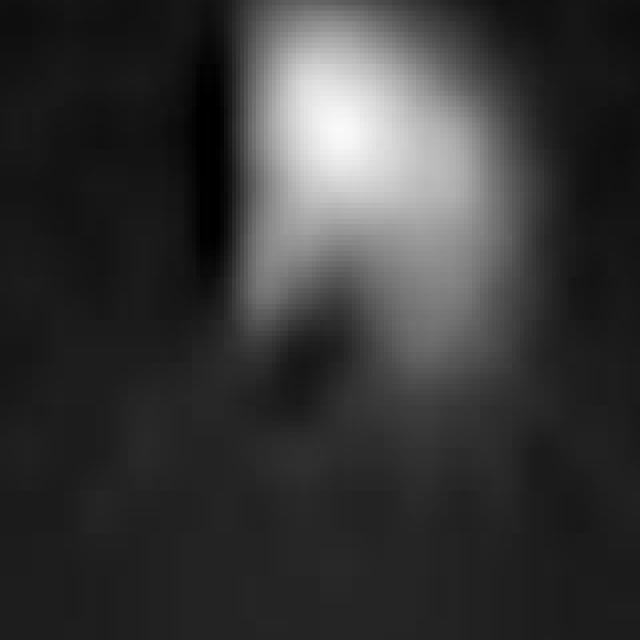person: (225, 1, 557, 433)
